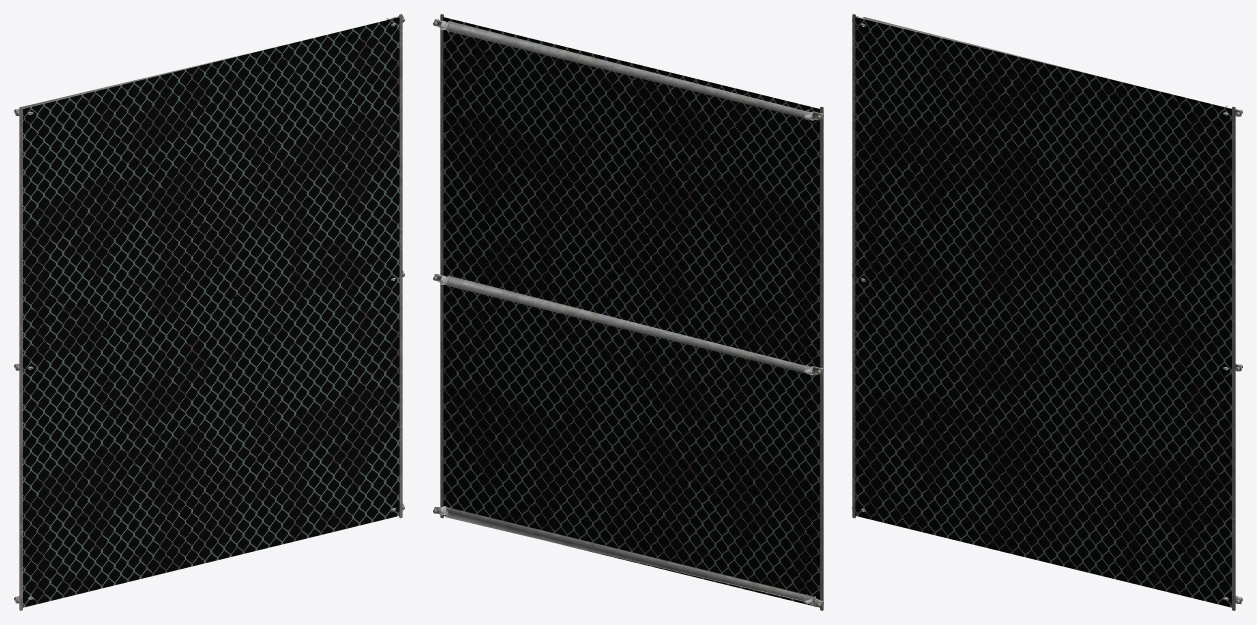
File: ph_fence_panel.glb
3 renders of one model, left to right at view 1: azimuth 30°, elevation 25°; view 2: azimuth 150°, elevation 25°; view 3: azimuth 330°, elevation 25°, orthographic.
Parts seen in each view (by area): view 1: modular_chainlink_fence_double; view 2: modular_chainlink_fence_double; view 3: modular_chainlink_fence_double.
Boxes of the visible parts, bbox=[...] form: modular_chainlink_fence_double: bbox=[14, 14, 404, 610]; modular_chainlink_fence_double: bbox=[433, 14, 823, 610]; modular_chainlink_fence_double: bbox=[852, 14, 1242, 610].
Bounding box in the file's own units: 1.91 × 2.37 × 0.0564.
Materials: 2 (2 with a texture image).
